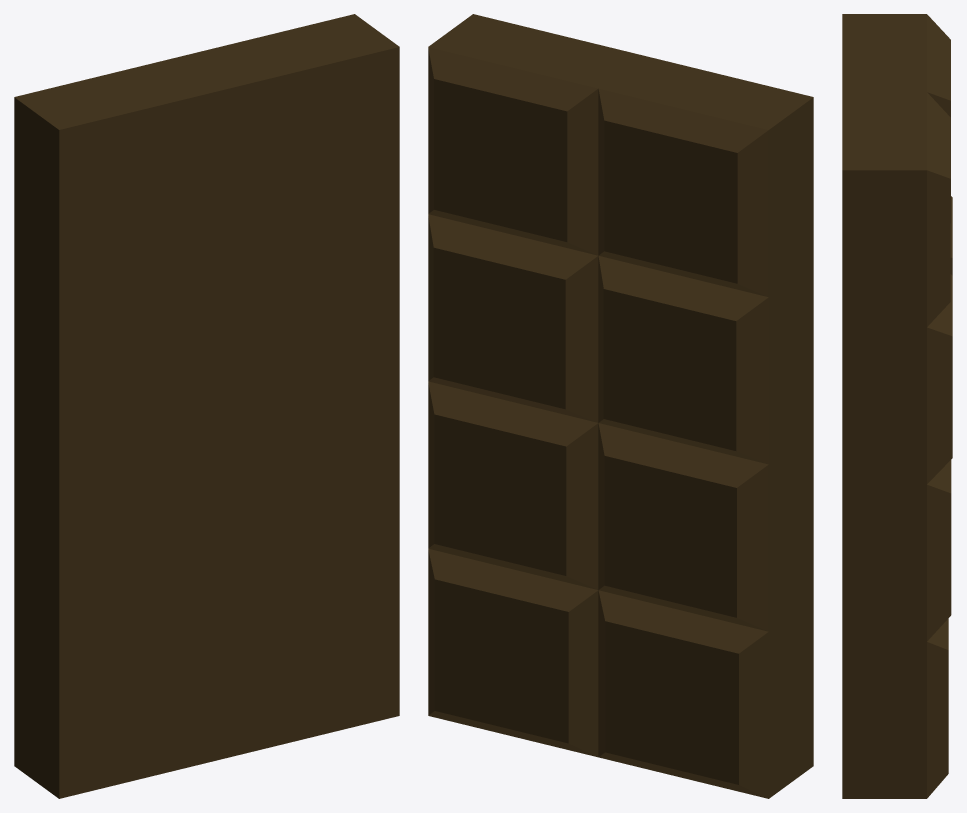
File: Chocolate Bar.fbx
The picture shows the model from 3 angles, left to right: view 1: azimuth 30°, elevation 25°; view 2: azimuth 150°, elevation 25°; view 3: azimuth 270°, elevation 25°; orthographic projection. The views are drawn at different scales.
Parts seen in each view (by area): view 1: pCube4; view 2: pCube4; view 3: pCube4.
Boxes of the visible parts, box(x1,y1,x2,y2) form: pCube4: box(14, 14, 399, 798); pCube4: box(428, 14, 813, 798); pCube4: box(842, 14, 952, 798).
Bounding box in the file's own units: 0.8492 × 1.59 × 0.2532.
